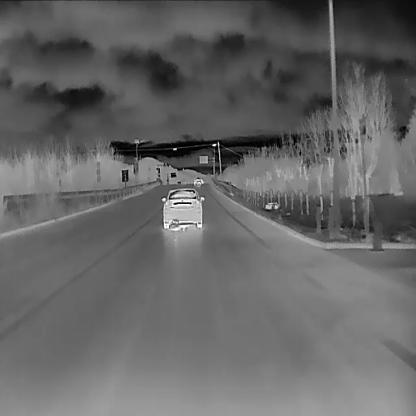car: (160, 186, 204, 228), (192, 176, 201, 186)
